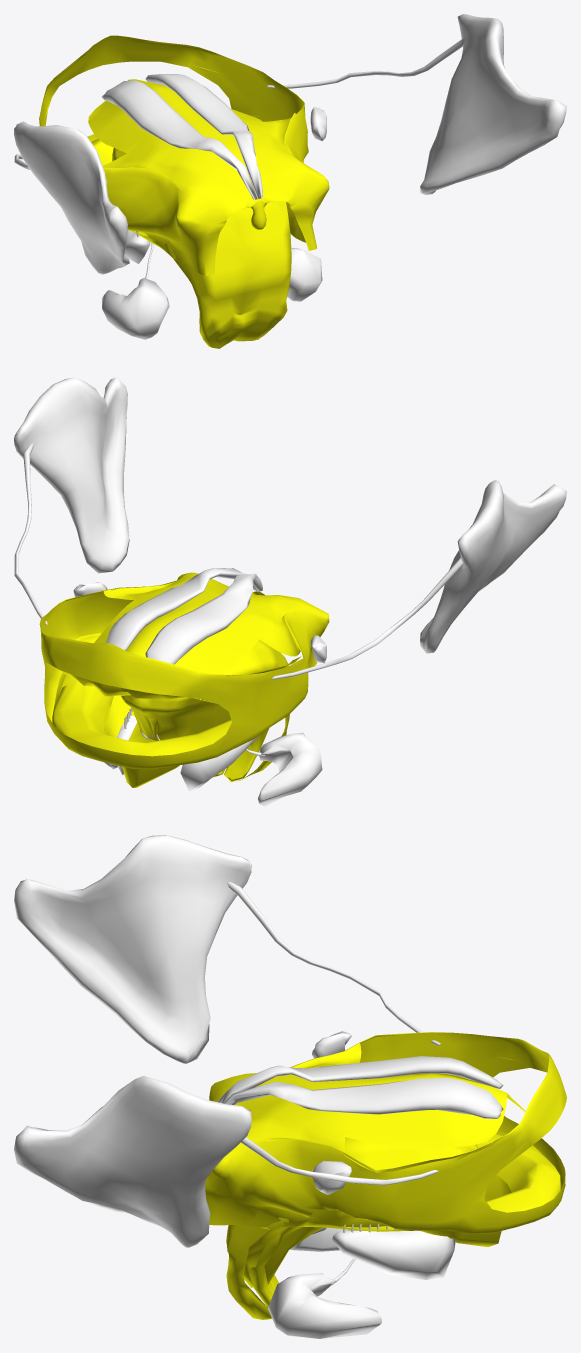
Rendered from Digestive.glb.
3 views of the same model, one above another, from view 1: azimuth 30°, elevation 25°; view 2: azimuth 150°, elevation 25°; view 3: azimuth 270°, elevation 25° (orthographic). The views are drawn at different scales.
Visible parts, largest first — view 1: oral_mucosa, right_parotid_gland, tongue_surface, left_parotid_gland, left_palatine_gland, right_palatine_gland, left_submandibular_gland, right_submandibular_gland, right_parotid_duct, left_sublingual_gland, uvula, right_molar_gland (+1 smaller); view 2: oral_mucosa, right_parotid_gland, left_parotid_gland, gingiva, tongue_surface, left_palatine_gland, left_submandibular_gland, right_palatine_gland, left_sublingual_gland, left_parotid_duct, right_parotid_duct, left_vertical_and_transverse_muscles_of_tongue; view 3: oral_mucosa, left_parotid_gland, right_parotid_gland, right_palatine_gland, tongue_surface, right_submandibular_gland, right_sublingual_gland, left_palatine_gland, gingiva, left_parotid_duct, right_parotid_duct, right_vertical_and_transverse_muscles_of_tongue (+5 smaller).
Boxes of the visible parts, x1,y1,x2,y2 form: oral_mucosa: (39, 35, 329, 275); right_parotid_gland: (420, 14, 566, 194); tongue_surface: (112, 148, 291, 348); left_parotid_gland: (14, 121, 129, 274); left_palatine_gland: (102, 80, 257, 200); right_palatine_gland: (145, 74, 262, 198); left_submandibular_gland: (102, 278, 169, 339); right_submandibular_gland: (287, 248, 322, 301); right_parotid_duct: (267, 38, 464, 88); left_sublingual_gland: (124, 230, 150, 263); uvula: (245, 197, 270, 229); right_molar_gland: (310, 107, 326, 140); oral_mucosa: (39, 572, 329, 787); right_parotid_gland: (14, 377, 129, 573); left_parotid_gland: (420, 480, 566, 653); gingiva: (41, 590, 301, 756); tongue_surface: (121, 639, 289, 780); left_palatine_gland: (145, 573, 262, 664); left_submandibular_gland: (258, 732, 322, 806); right_palatine_gland: (106, 568, 257, 650); left_sublingual_gland: (180, 734, 260, 791); left_parotid_duct: (272, 557, 463, 679); right_parotid_duct: (14, 436, 47, 625); left_vertical_and_transverse_muscles_of_tongue: (224, 728, 269, 782); oral_mucosa: (205, 1032, 566, 1246); left_parotid_gland: (14, 835, 251, 1063); right_parotid_gland: (14, 1076, 251, 1247); right_palatine_gland: (224, 1078, 503, 1118); tongue_surface: (226, 1137, 477, 1319); right_submandibular_gland: (268, 1273, 381, 1338); right_sublingual_gland: (332, 1229, 455, 1279); left_palatine_gland: (217, 1056, 503, 1103); gingiva: (309, 1032, 561, 1219); left_parotid_duct: (220, 877, 440, 1045); right_parotid_duct: (241, 1137, 438, 1185); right_vertical_and_transverse_muscles_of_tongue: (249, 1226, 301, 1306).
Size of the model in its own units: 0.0353 by 0.0224 by 0.0315.
4 materials, 3 textured.
